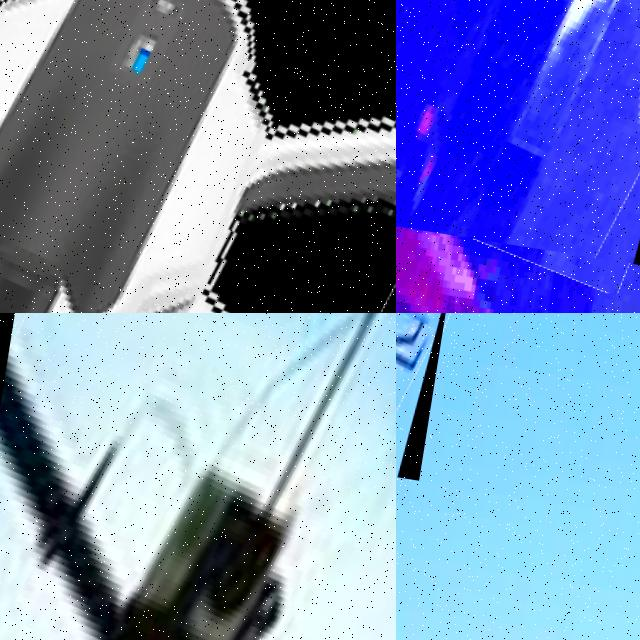0: (396, 313, 454, 481)
drone: (0, 313, 396, 640), (0, 0, 396, 313), (396, 0, 640, 270)
